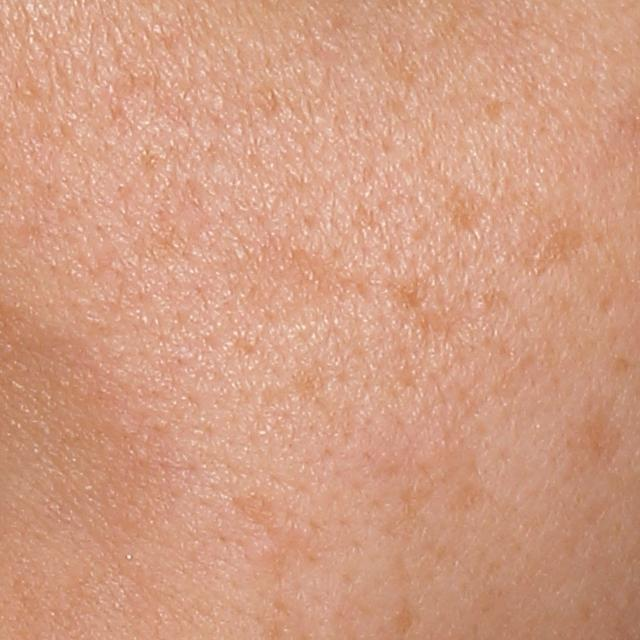melasma: (515, 210, 591, 269), (445, 186, 488, 234)
